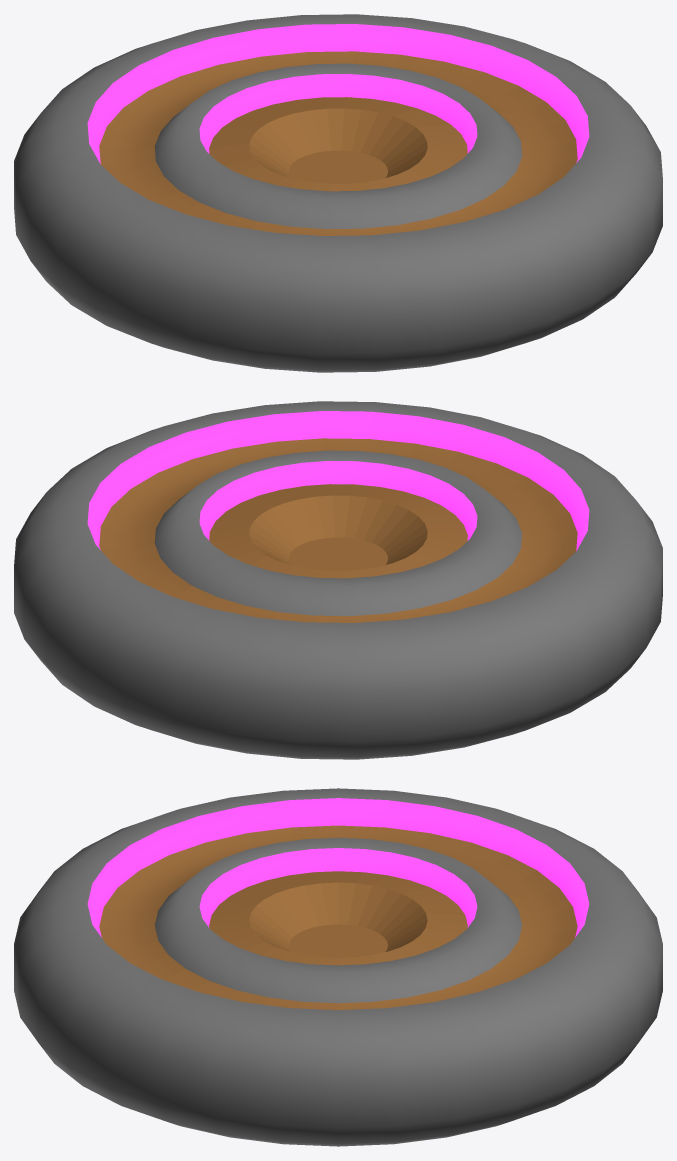
The model's file is Vaisseau.gltf.
The picture shows the model from 3 angles, top to bottom: view 1: azimuth 30°, elevation 25°; view 2: azimuth 150°, elevation 25°; view 3: azimuth 270°, elevation 25°; orthographic projection.
Visible parts, largest first — view 1: Cylinder_Gris, Cylinder_Or, Cylinder_Rose; view 2: Cylinder_Gris, Cylinder_Or, Cylinder_Rose; view 3: Cylinder_Gris, Cylinder_Or, Cylinder_Rose.
Part boxes in pixels (box(x1,y1,x2,y2)): Cylinder_Gris: box(14, 14, 662, 372); Cylinder_Or: box(99, 51, 577, 235); Cylinder_Rose: box(87, 24, 589, 163); Cylinder_Gris: box(14, 401, 662, 759); Cylinder_Or: box(99, 438, 577, 622); Cylinder_Rose: box(87, 411, 589, 550); Cylinder_Gris: box(14, 788, 662, 1146); Cylinder_Or: box(99, 825, 577, 1009); Cylinder_Rose: box(87, 798, 589, 937).
Size of the model in its own units: 3.93 by 0.8469 by 3.93.
